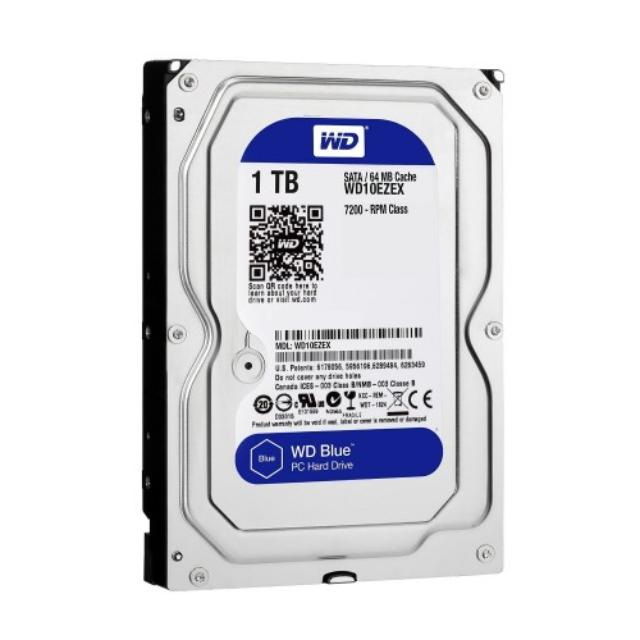HDD: (140, 60, 509, 594)
